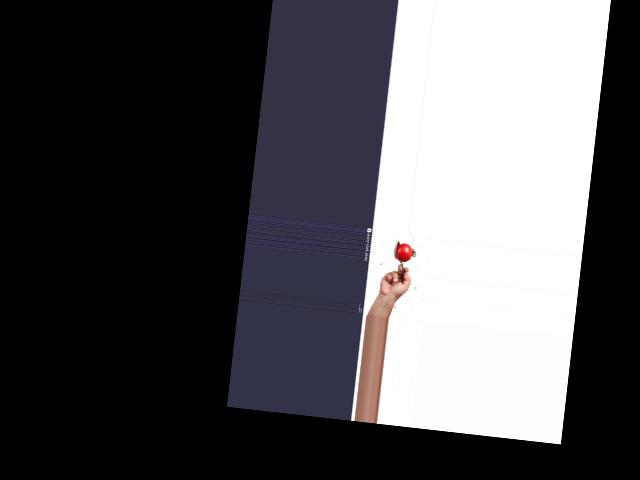tomato: (395, 243, 413, 263)
